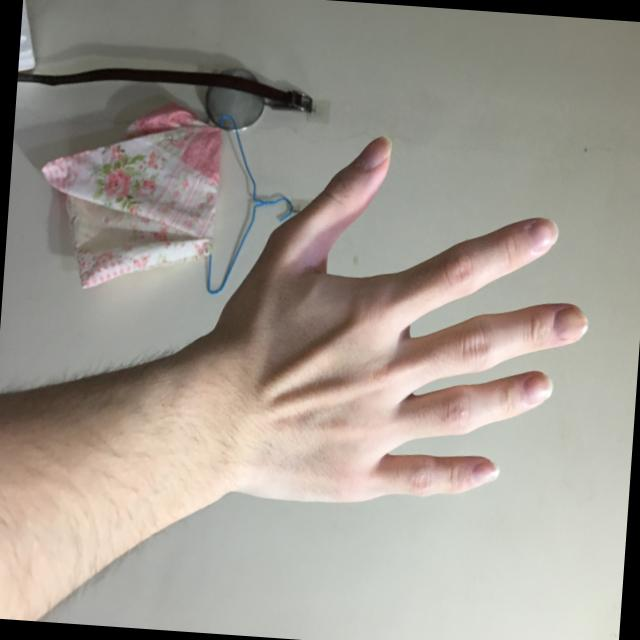Nail: (351, 136, 390, 171), (552, 308, 587, 340), (527, 217, 556, 252), (523, 373, 551, 405), (470, 460, 497, 485)
